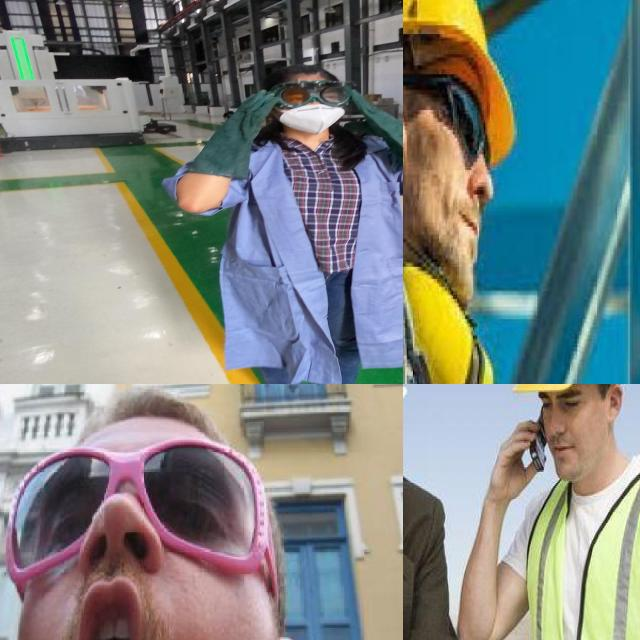face_mask: (263, 81, 355, 133)
face_nomask: (407, 112, 492, 306), (535, 389, 592, 466)
glasses: (2, 429, 273, 582), (403, 74, 488, 161), (258, 77, 358, 110)
hand_glove: (214, 88, 283, 138), (335, 85, 398, 137)
hand_noglove: (485, 417, 551, 499)
head_helmet: (403, 0, 514, 164)
head_nohelmet: (258, 60, 340, 87)
person: (155, 58, 403, 384), (458, 384, 640, 640), (403, 384, 464, 640)
vest: (522, 455, 640, 640)
